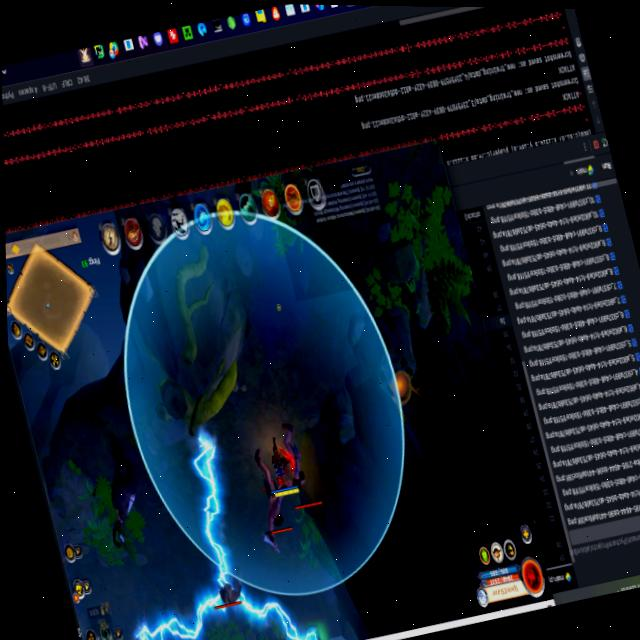ore: (82, 424, 156, 555), (239, 438, 303, 549), (269, 415, 326, 516), (201, 559, 252, 613), (118, 617, 163, 640)
silver: (185, 428, 235, 590), (128, 582, 226, 640), (237, 585, 320, 640)
